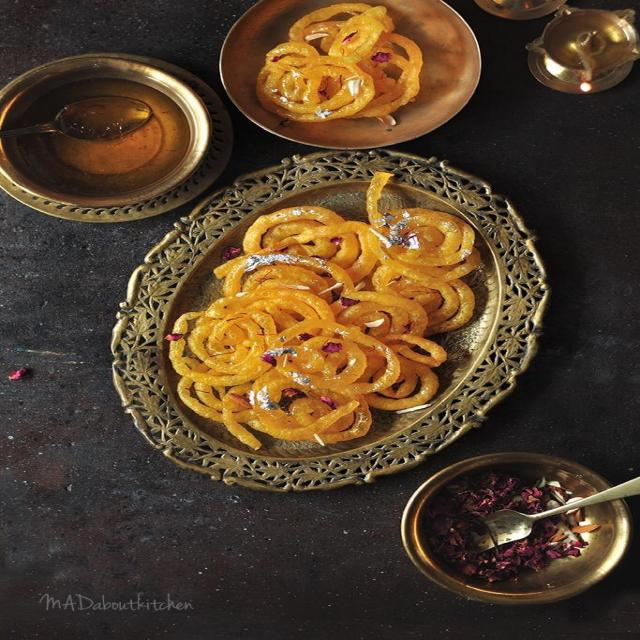jalebi: (176, 178, 459, 455), (270, 5, 420, 126)
